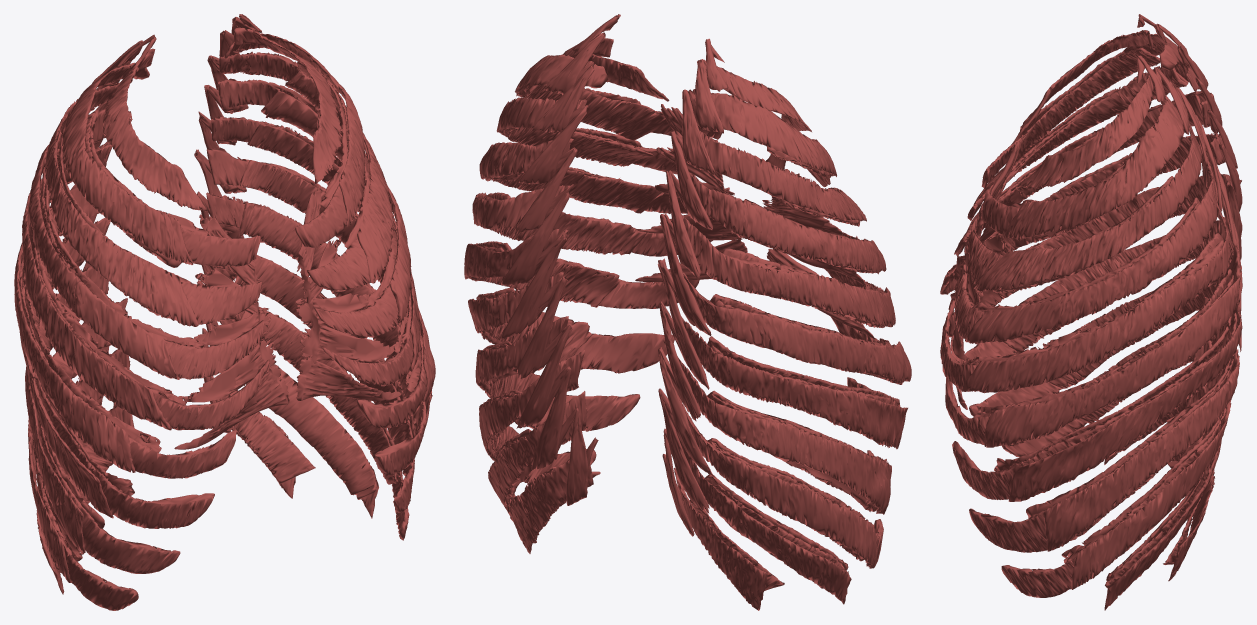
File: thorax.glb
The picture shows the model from 3 angles, left to right: view 1: azimuth 30°, elevation 25°; view 2: azimuth 150°, elevation 25°; view 3: azimuth 270°, elevation 25°; orthographic projection. The views are drawn at different scales.
Visible parts, largest first — view 1: FMA9756, FMA9757, FMA9758, FMA9762, FMA9761, FMA74076, FMA74078, FMA74075; view 2: FMA9756, FMA9758, FMA74076, FMA9757, FMA74075, FMA9762, FMA9761, FMA74078, FMA74077; view 3: FMA9756, FMA9758, FMA9757, FMA74076, FMA74075, FMA9762, FMA9761, FMA74078.
Part boxes in pixels (x1=…): FMA9756: x1=14, y1=27, x2=435, y2=594; FMA9757: x1=19, y1=72, x2=426, y2=610; FMA9758: x1=23, y1=61, x2=422, y2=561; FMA9762: x1=295, y1=185, x2=401, y2=401; FMA9761: x1=174, y1=214, x2=289, y2=449; FMA74076: x1=194, y1=14, x2=261, y2=433; FMA74078: x1=196, y1=16, x2=259, y2=428; FMA74075: x1=60, y1=34, x2=154, y2=407; FMA9756: x1=464, y1=38, x2=911, y2=610; FMA9758: x1=475, y1=85, x2=902, y2=588; FMA74076: x1=501, y1=14, x2=620, y2=505; FMA9757: x1=482, y1=86, x2=900, y2=590; FMA74075: x1=657, y1=38, x2=727, y2=536; FMA9762: x1=635, y1=104, x2=747, y2=282; FMA9761: x1=762, y1=154, x2=875, y2=339; FMA74078: x1=516, y1=16, x2=619, y2=471; FMA74077: x1=658, y1=42, x2=724, y2=526; FMA9756: x1=962, y1=30, x2=1242, y2=610; FMA9758: x1=962, y1=47, x2=1231, y2=581; FMA9757: x1=940, y1=47, x2=1237, y2=597; FMA74076: x1=1136, y1=54, x2=1242, y2=470; FMA74075: x1=1138, y1=14, x2=1242, y2=391; FMA9762: x1=950, y1=189, x2=1023, y2=409; FMA9761: x1=950, y1=135, x2=1023, y2=327; FMA74078: x1=1136, y1=57, x2=1239, y2=436.
Bounding box in the file's own units: 0.2729 × 0.3737 × 0.2033.
